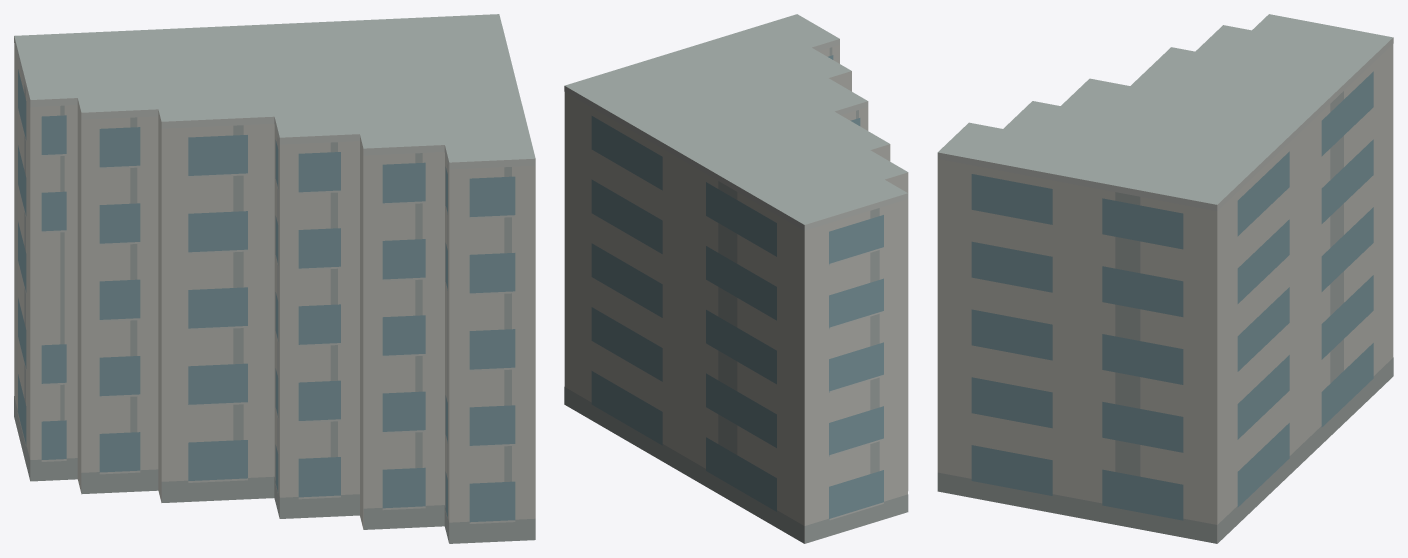
The model's file is survey-upis-32532562.glb.
3 renders of one model, left to right at view 1: azimuth 30°, elevation 25°; view 2: azimuth 150°, elevation 25°; view 3: azimuth 270°, elevation 25°, orthographic. The views are drawn at different scales.
Parts seen in each view (by area): view 1: survey-upis-32532562.tmp; view 2: survey-upis-32532562.tmp; view 3: survey-upis-32532562.tmp.
Part boxes in pixels (x1,y1,x2,y2): survey-upis-32532562.tmp: (14, 14, 535, 543); survey-upis-32532562.tmp: (564, 14, 908, 543); survey-upis-32532562.tmp: (937, 14, 1393, 543).
Size of the model in its own units: 15.83 by 13.1 by 15.97.
